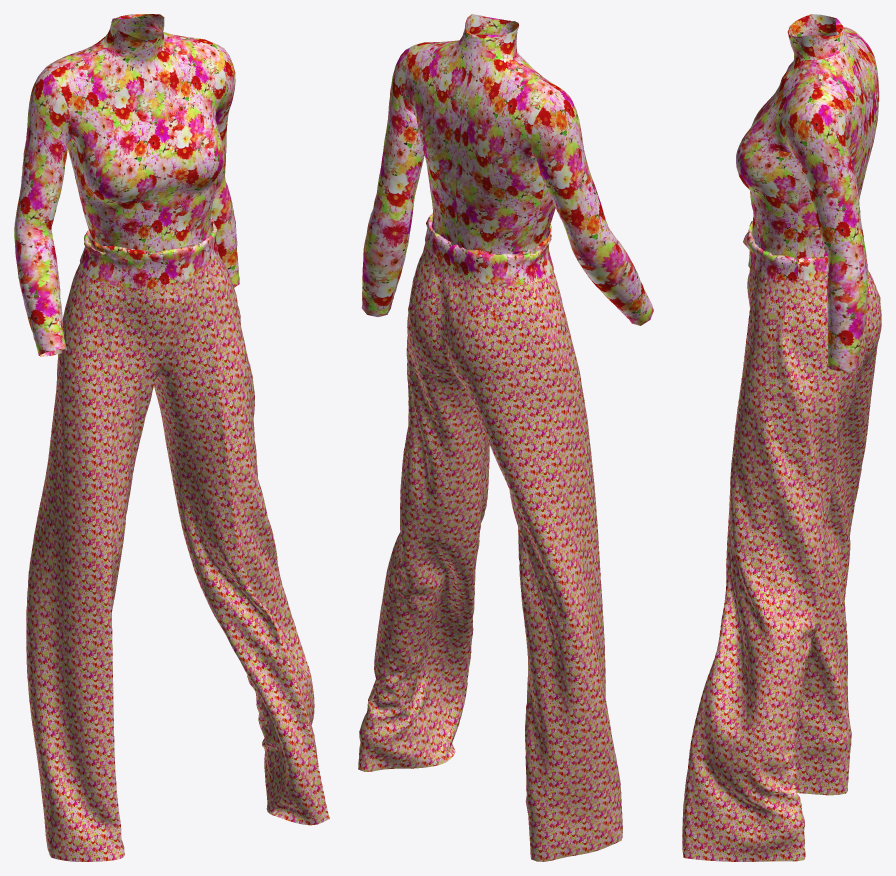
File: DA_HighNeck+WidePants_0000066.obj
3 renders of one model, left to right at view 1: azimuth 30°, elevation 25°; view 2: azimuth 150°, elevation 25°; view 3: azimuth 270°, elevation 25°, orthographic. The views are drawn at different scales.
Size of the model in its own units: 0.5835 by 1.65 by 0.3751.
